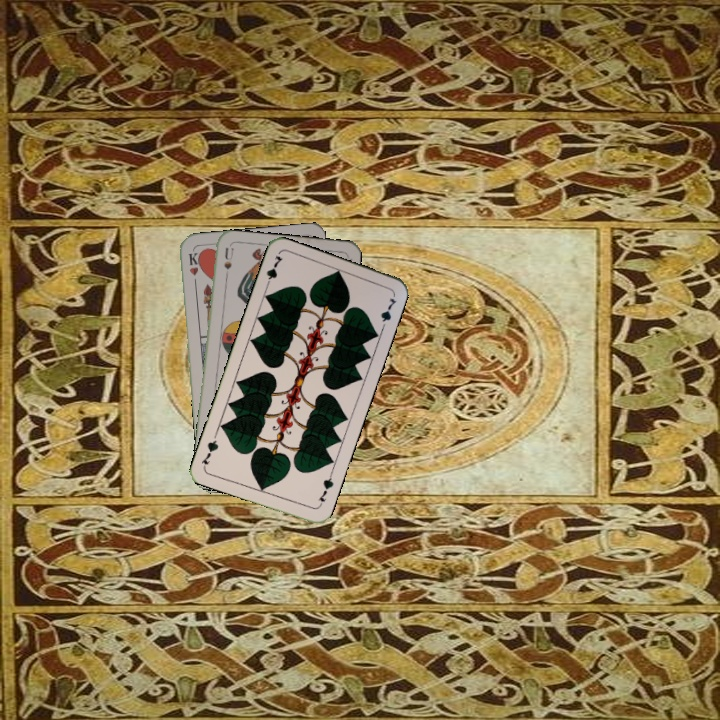G7: (262, 251, 286, 291), (314, 470, 336, 509)
HK: (185, 248, 202, 289)
SU: (220, 244, 235, 285)
